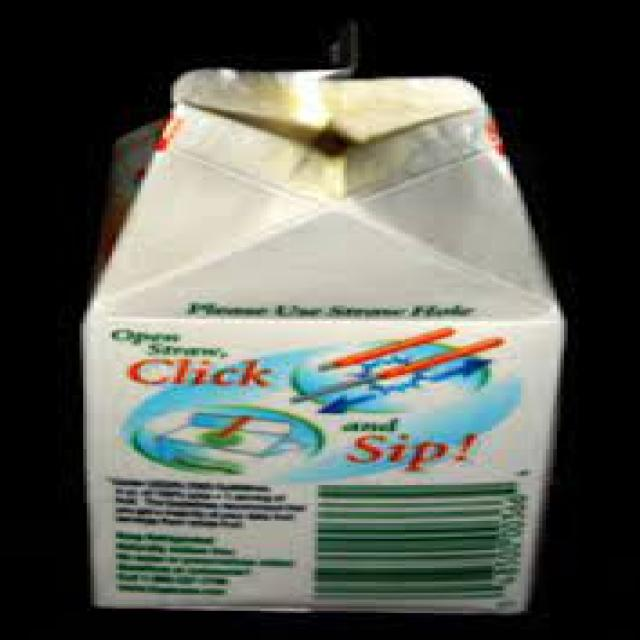cardboard: (65, 64, 560, 617)
